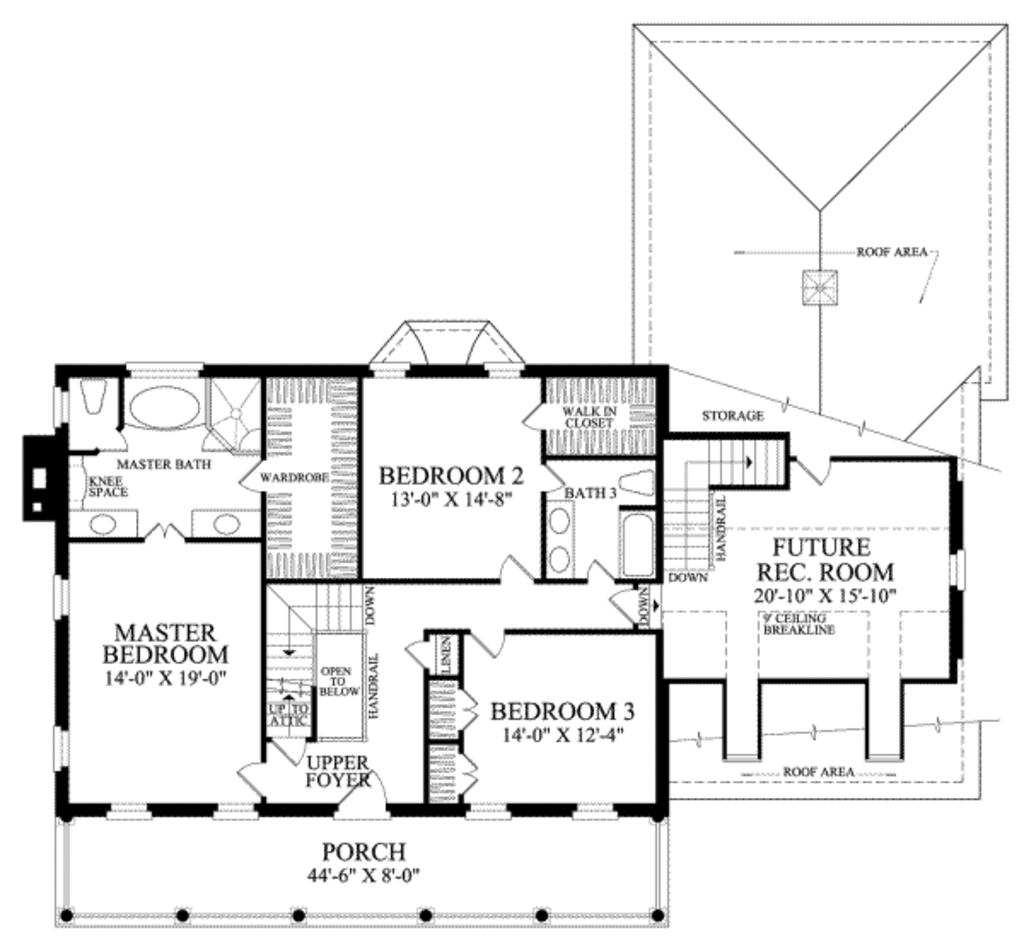door: (337, 772, 388, 819), (465, 627, 509, 665), (792, 451, 835, 488), (229, 759, 268, 799), (456, 680, 479, 740), (453, 751, 482, 798), (606, 588, 640, 627), (497, 553, 538, 584), (234, 460, 267, 496), (521, 400, 554, 432), (401, 638, 428, 676), (583, 559, 621, 586), (536, 465, 567, 496)
large_sink: (79, 374, 110, 421), (615, 466, 656, 500)
small_sink: (64, 507, 142, 544), (544, 499, 579, 580), (188, 508, 262, 539)
stairs: (662, 430, 787, 576), (259, 577, 364, 745)
tub: (123, 376, 212, 436), (618, 505, 655, 578)
window: (124, 357, 206, 381), (480, 360, 532, 387), (47, 723, 71, 775), (51, 572, 73, 628), (206, 799, 260, 821), (102, 800, 154, 822), (462, 801, 516, 822), (950, 548, 971, 601), (363, 358, 411, 381), (51, 385, 71, 429), (570, 804, 624, 818)
